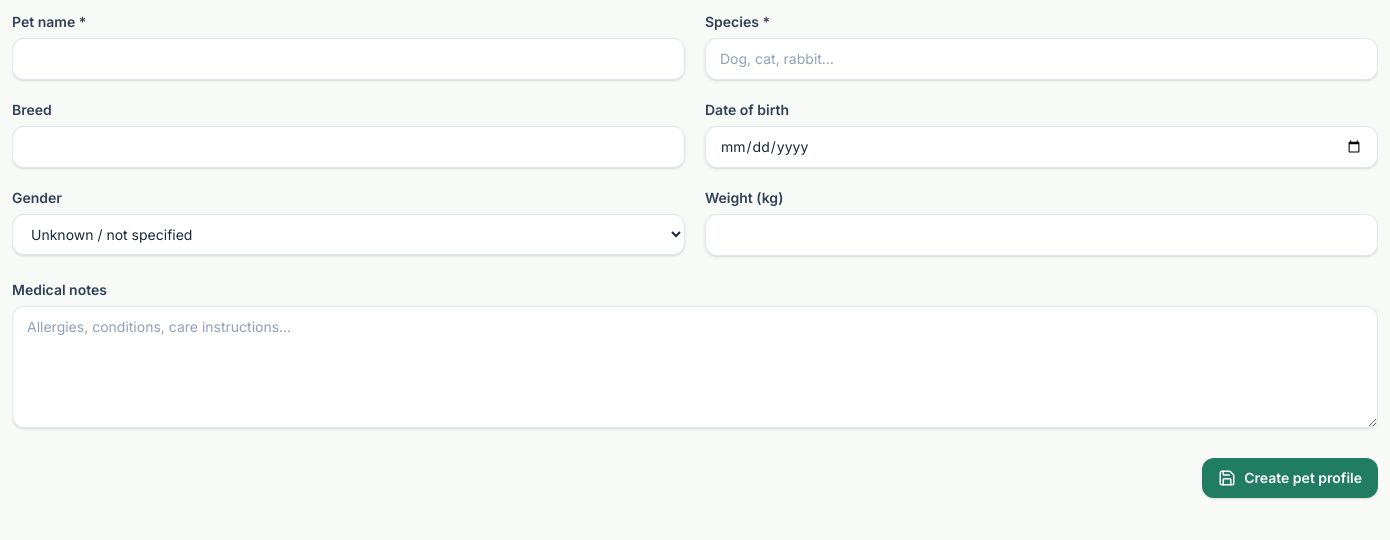
Test case: PetForm › shows client-side validation and does not submit invalid data
Click the button "Create pet profile".
click(1290, 478)  # box left=1202, top=458, right=1378, bottom=498
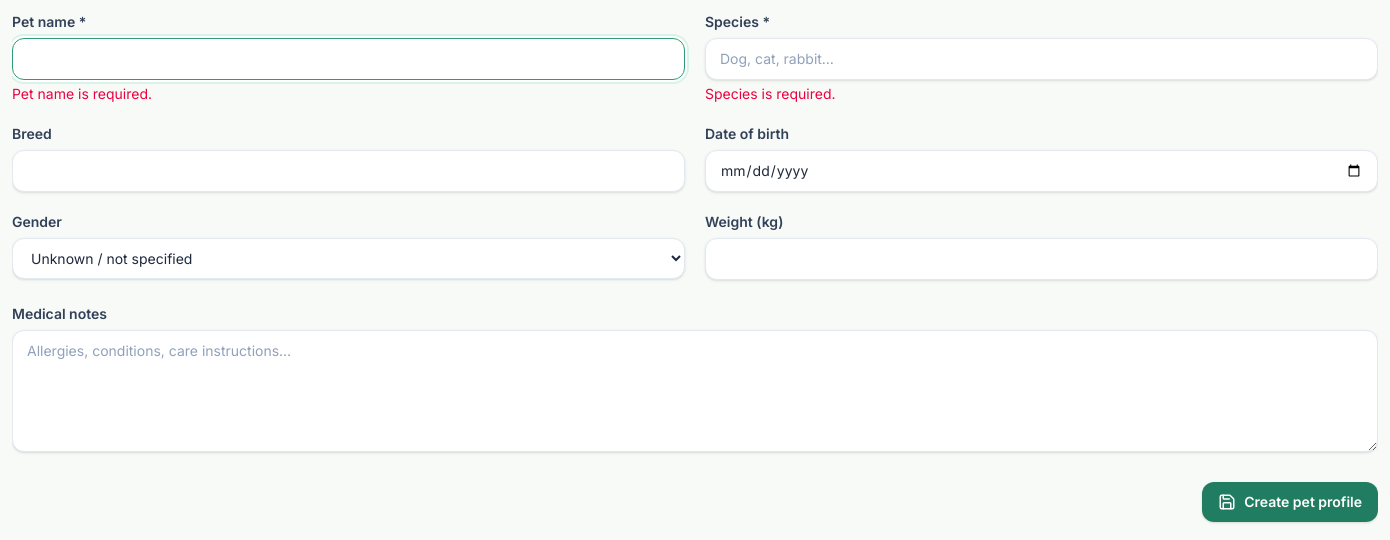
Expected: the text "Pet name is required." is shown, left=12, top=85, right=152, bottom=102
Expected: the text "Species is required." is shown, left=705, top=85, right=836, bottom=102
